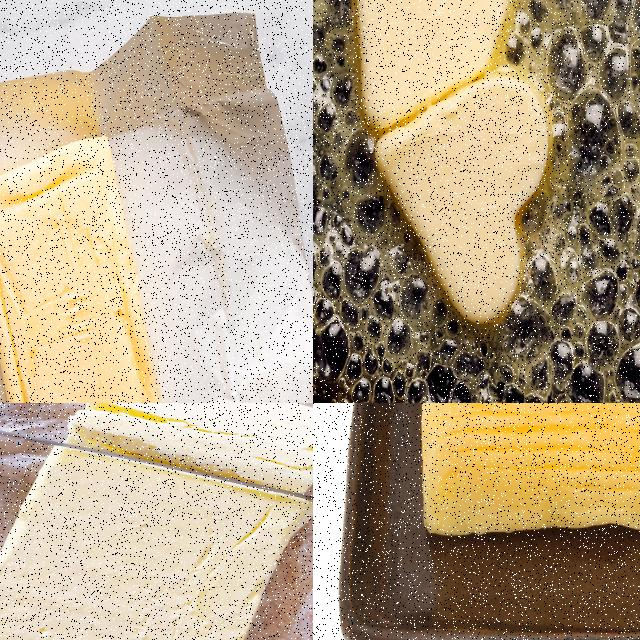butter: (357, 0, 555, 327), (0, 442, 312, 639), (0, 122, 170, 402), (418, 403, 639, 540), (69, 403, 312, 494)
